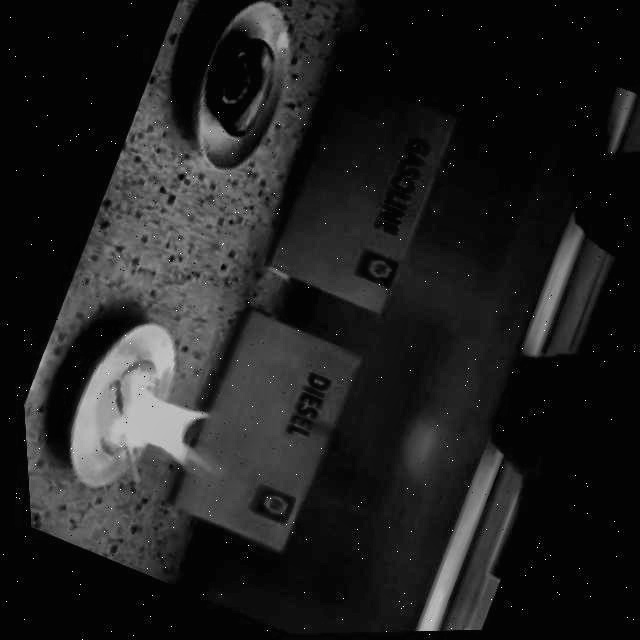Smoke: (81, 362, 243, 496)
